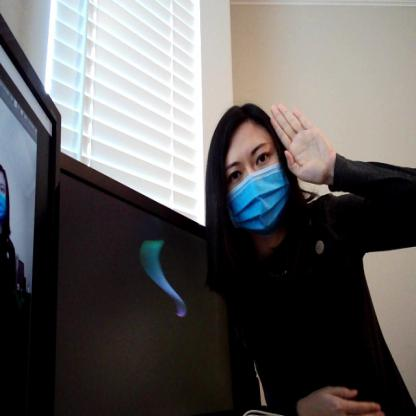hello: (270, 102, 343, 186)
